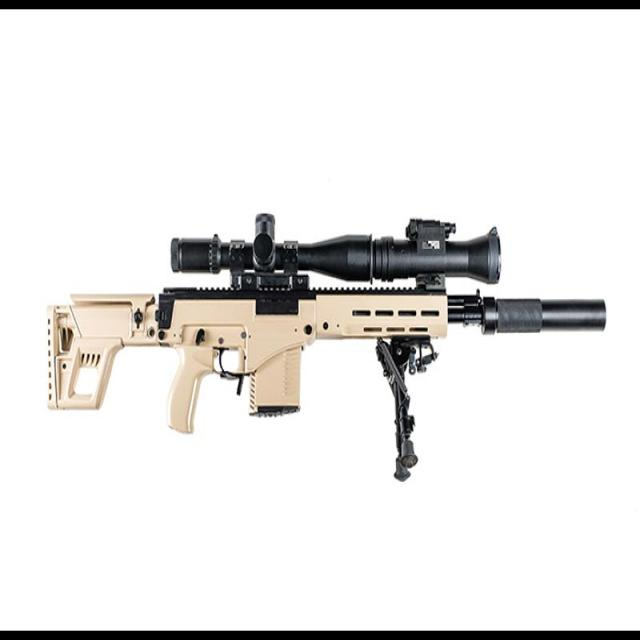Rifle: (46, 214, 606, 479)
